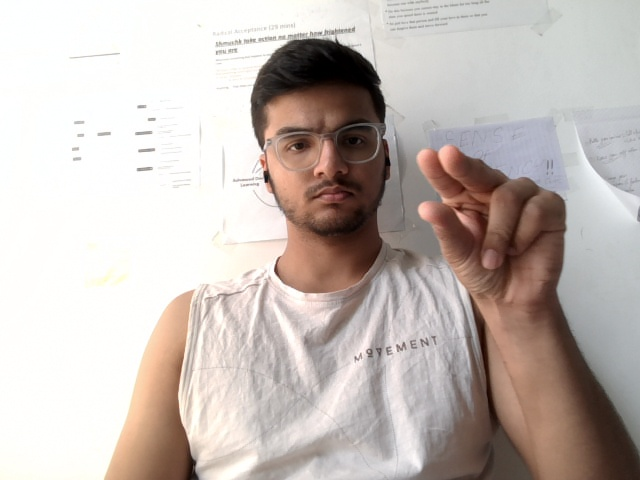no: (398, 123, 579, 324)
